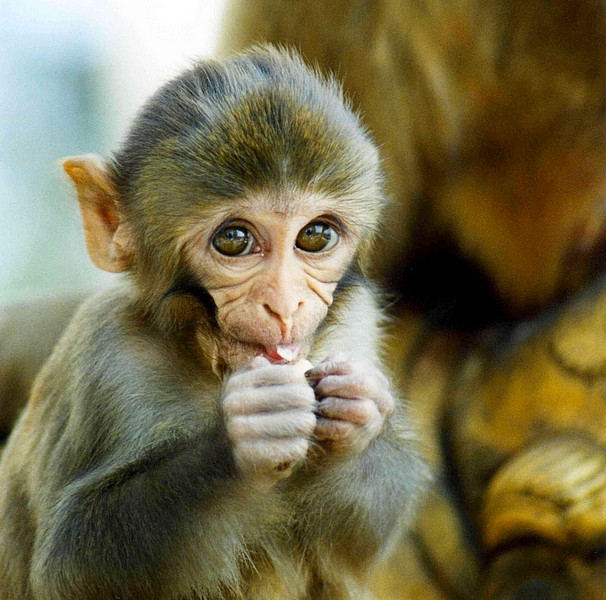monkey: (1, 39, 425, 600)
